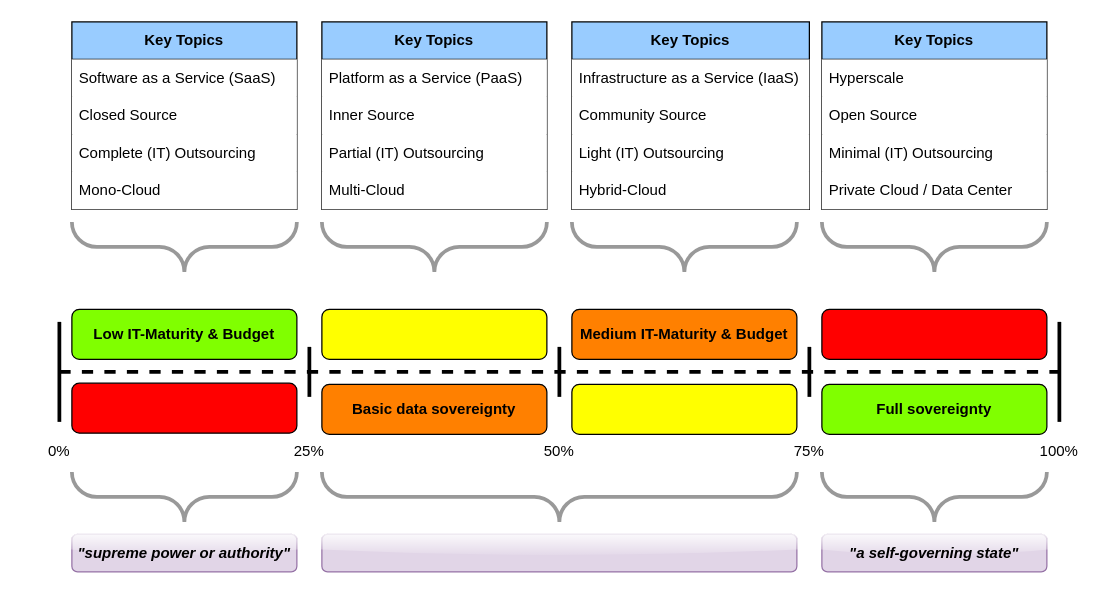
The diagram is 1118 pixels wide and 594 high, and some of its shapes have lost their labels. The centre of each missing label's shape, as x and y in pixels:
"the authority of a state to govern itself or another state": (x=559, y=552)
Basic IT-Maturity & Budget: (x=434, y=333)
High IT-Maturity & Budget: (x=934, y=333)
Infrastructure sovereignty: (x=684, y=408)
Minimal sovereignty: (x=184, y=407)
